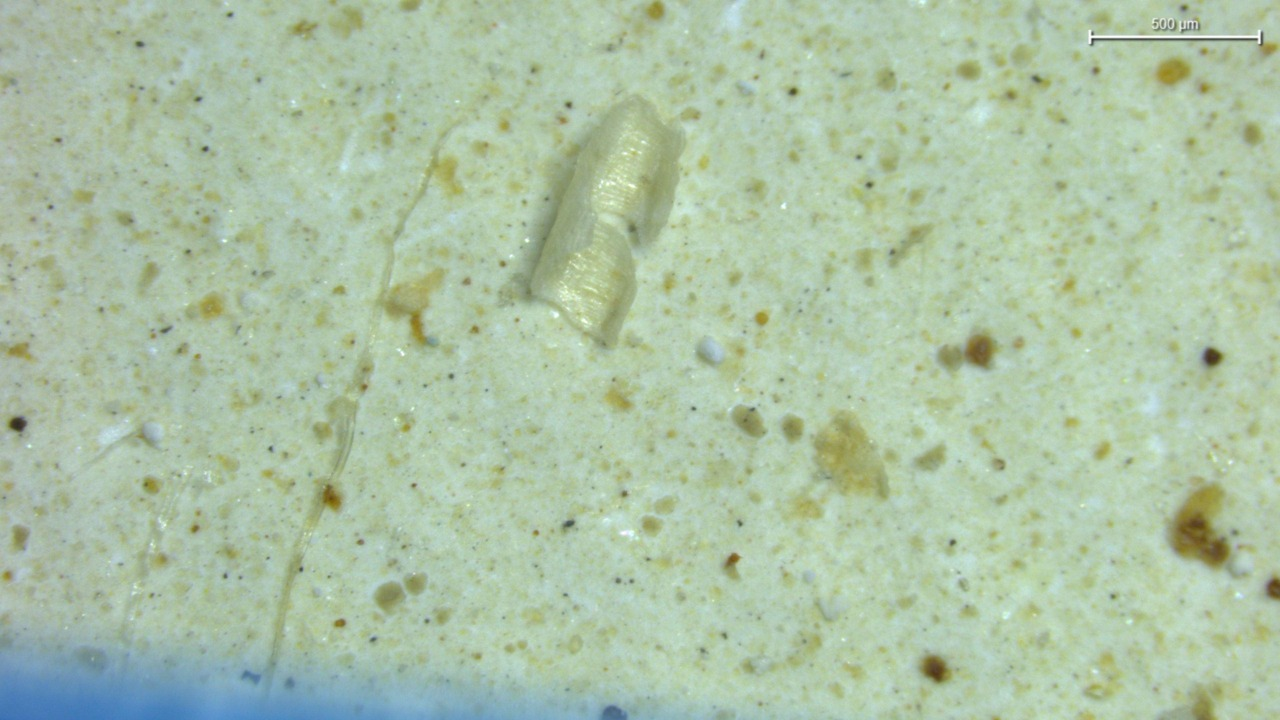microplastic_fragment: (528, 96, 685, 345), (696, 336, 725, 364), (141, 422, 164, 447)
